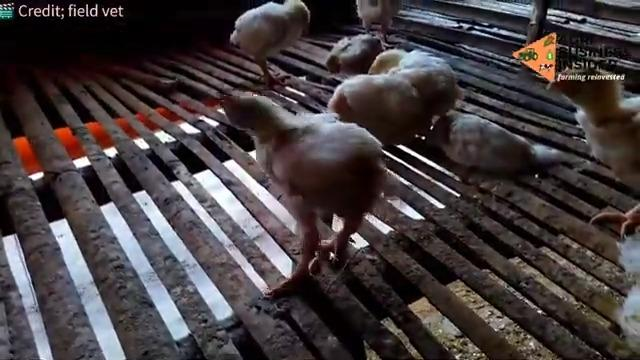AbNormal: (226, 93, 386, 287)
